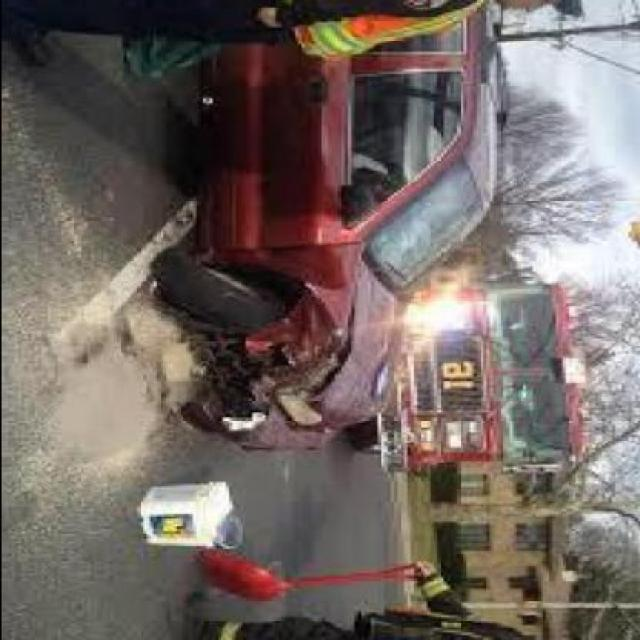damage: (188, 239, 388, 454)
